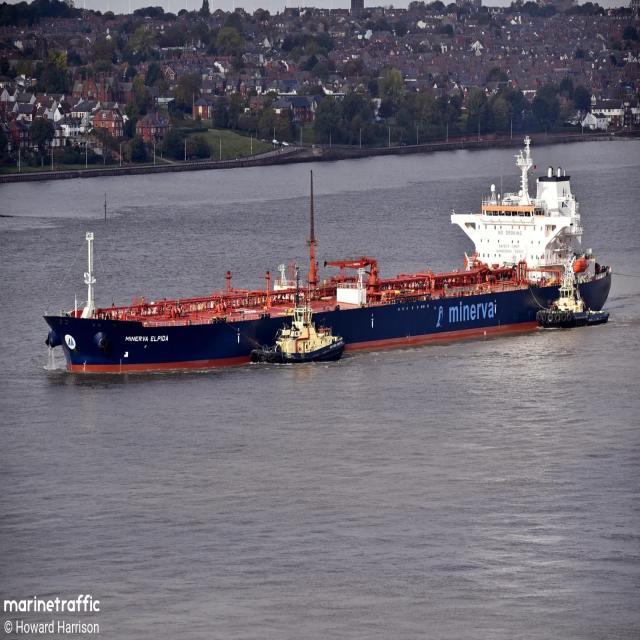Tanker: (44, 139, 611, 372)
Tug: (250, 300, 344, 363), (536, 262, 608, 327)
